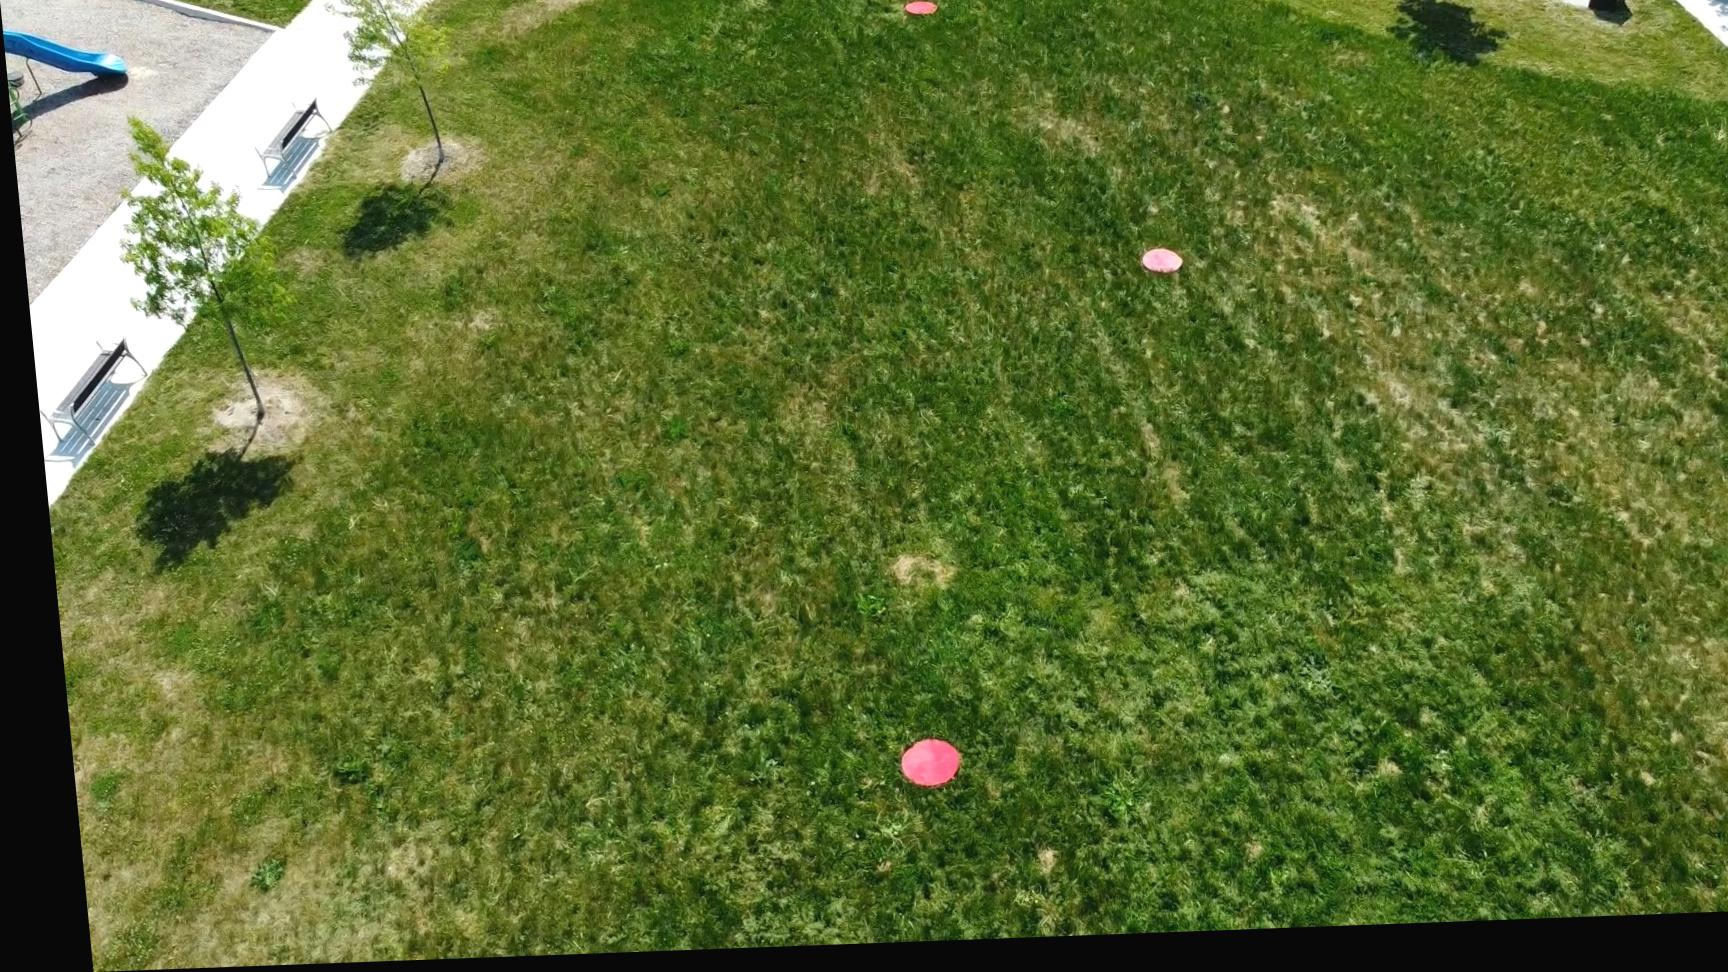Red: (877, 741, 951, 799), (1133, 253, 1180, 285), (901, 6, 939, 26)
